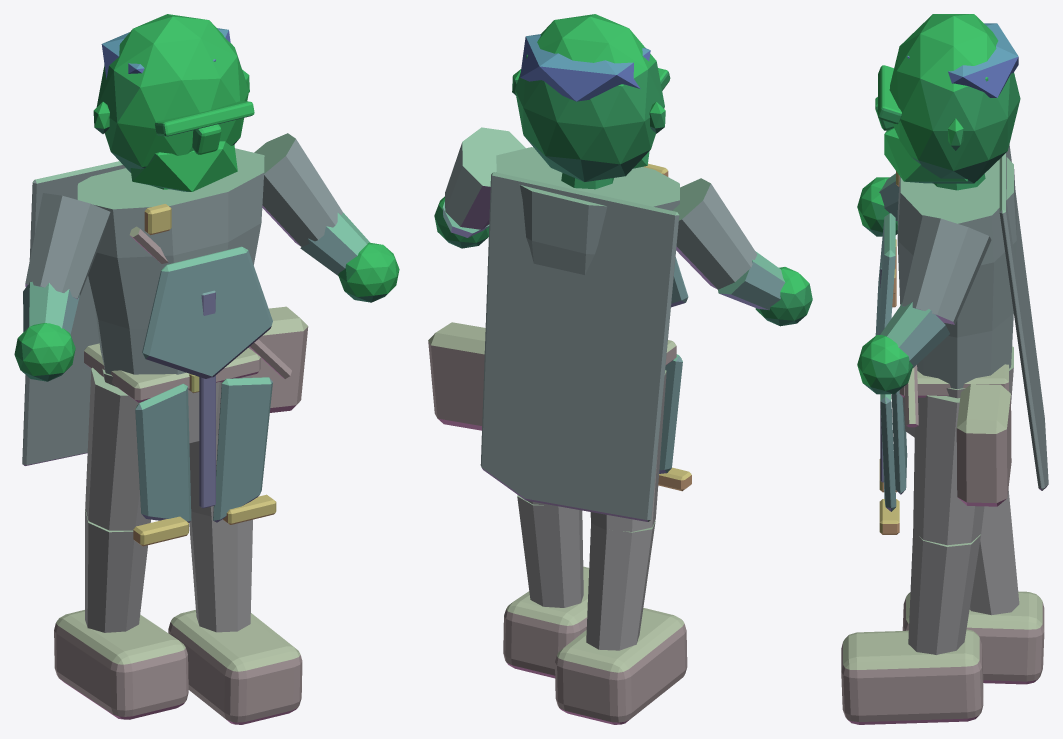
File: npc_healer_react_v01.glb
3 renders of one model, left to right at view 1: azimuth 30°, elevation 25°; view 2: azimuth 150°, elevation 25°; view 3: azimuth 270°, elevation 25°, orthographic.
Parts seen in each view (by area): view 1: GEO_npc_healer_react_v01; view 2: GEO_npc_healer_react_v01; view 3: GEO_npc_healer_react_v01.
Boxes of the visible parts, <box> form: GEO_npc_healer_react_v01: <box>14,14,399,724</box>; GEO_npc_healer_react_v01: <box>428,14,812,724</box>; GEO_npc_healer_react_v01: <box>841,14,1048,724</box>.
Size of the model in its own units: 1.21 by 2.08 by 0.5781.
